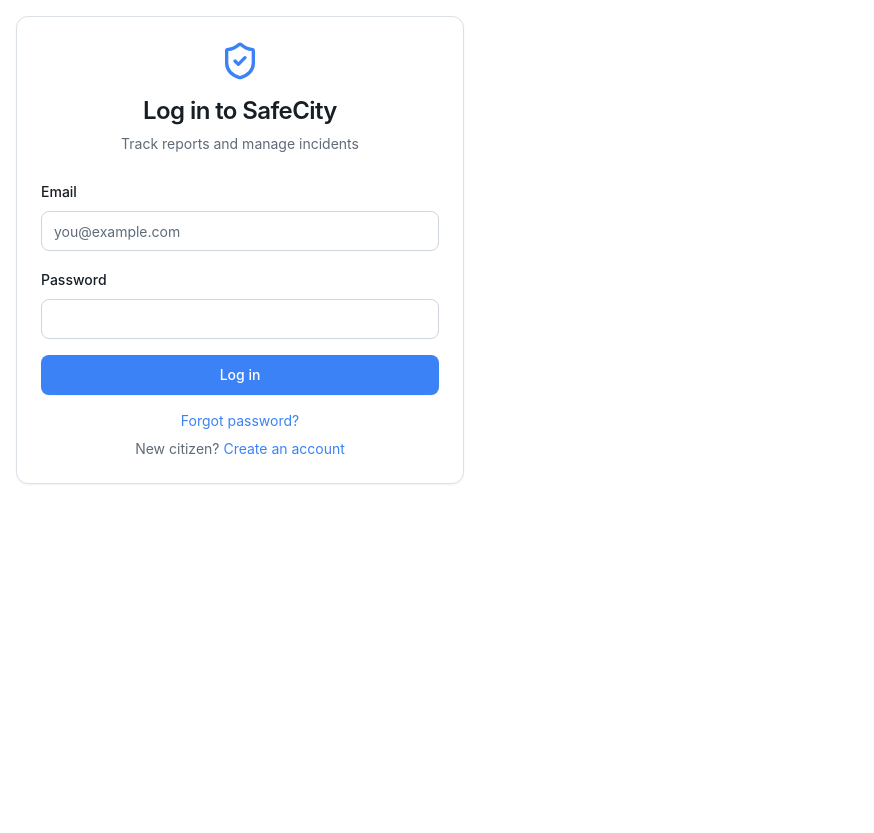
Scenario: LoginPage › shows error toast on failed login
This screenshot has width=874, height=833.
Type "c@test.local" into the field labelled "Email" at (240, 231), box [41, 211, 439, 251]
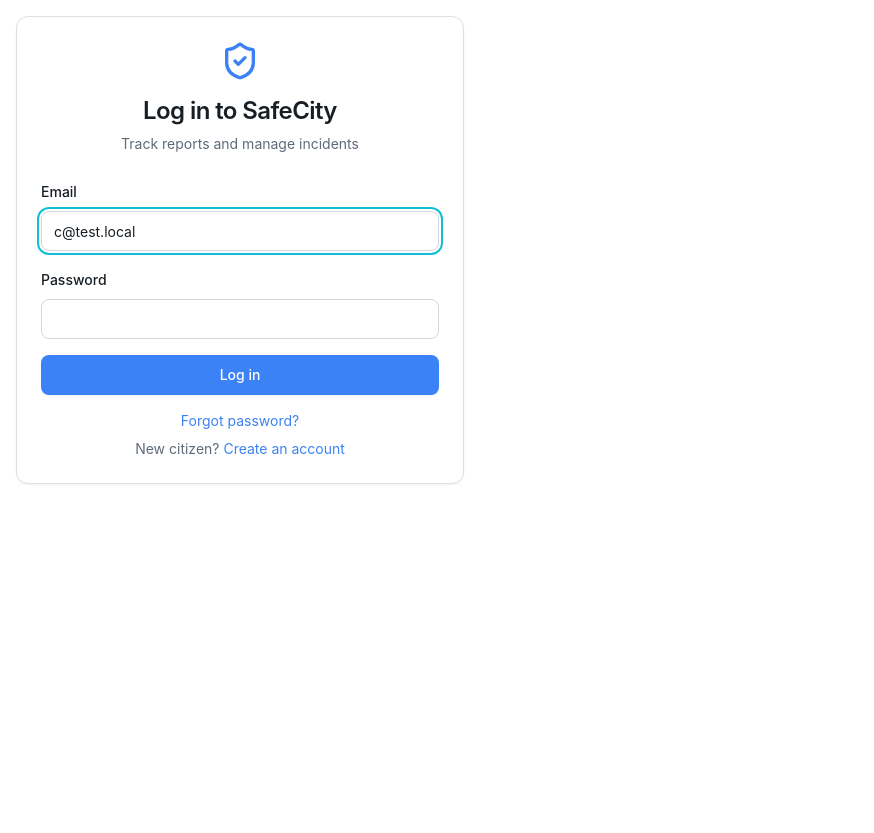
Type "wrong" into the password field labelled "Password" at (240, 319), box [41, 299, 439, 339]
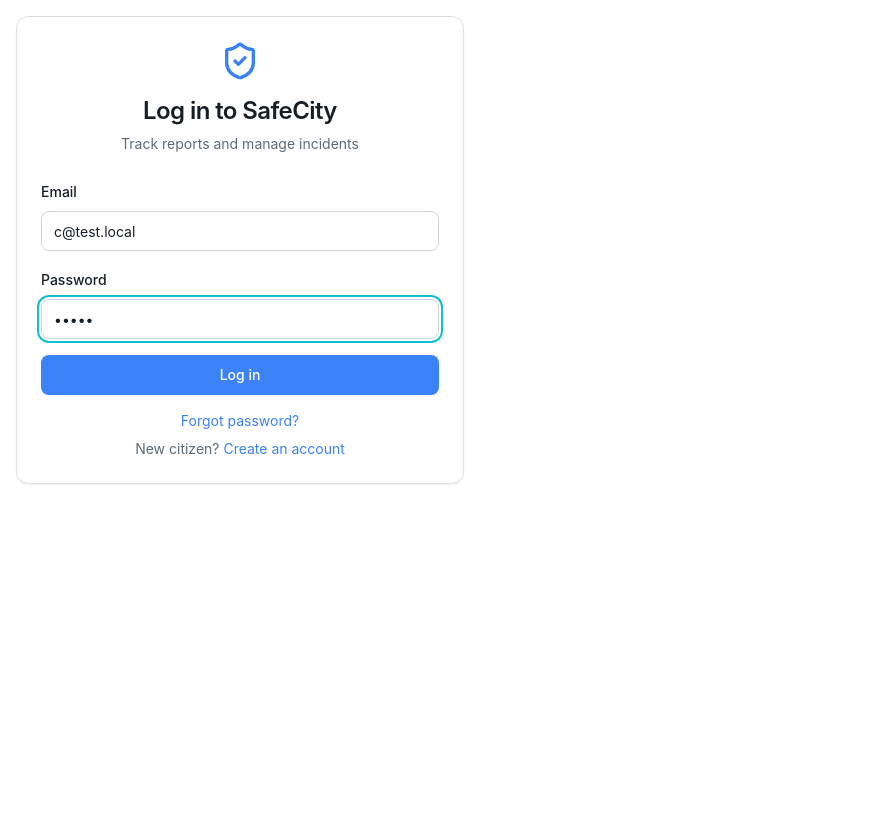
Click the button "Log in" at (240, 375), box [41, 355, 439, 395]
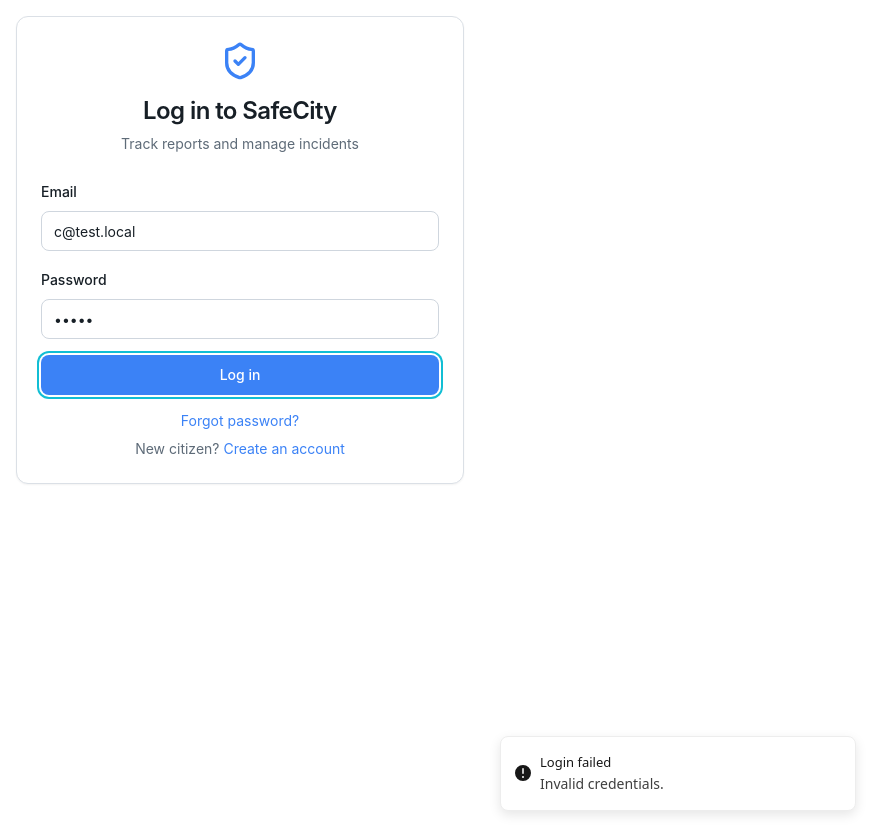
Result: the text "Login failed" is shown at [540, 753, 611, 771]
